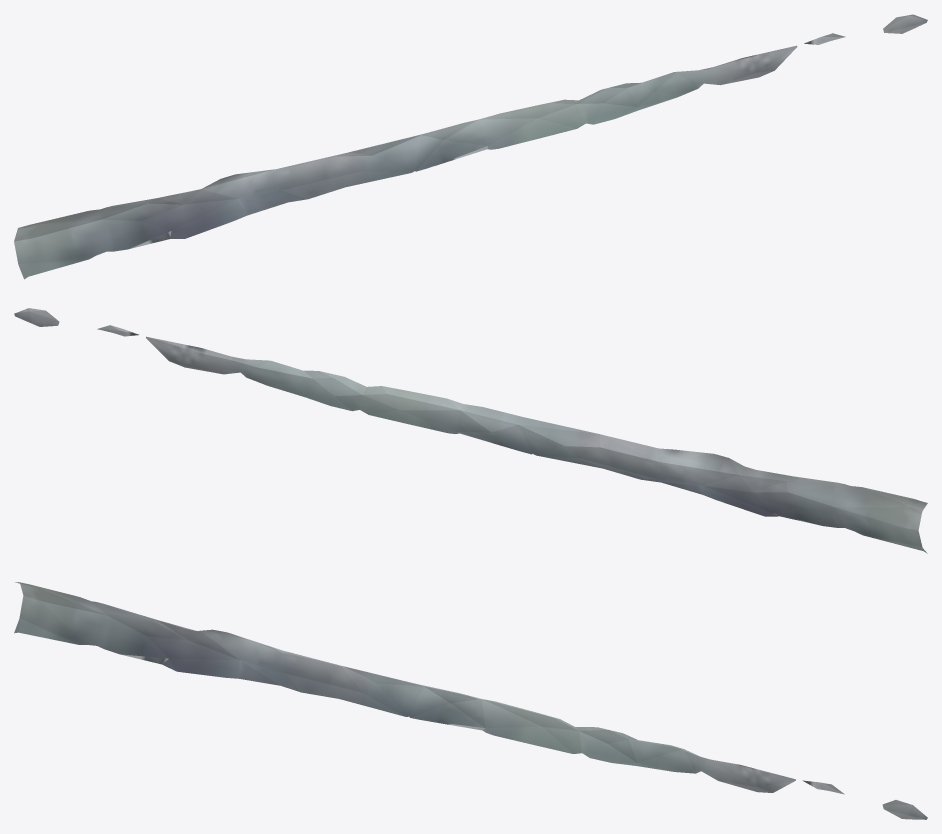
The model's file is Tile_+011_+009_L20_000001370.glb.
3 views of the same model, one above another, from view 1: azimuth 30°, elevation 25°; view 2: azimuth 150°, elevation 25°; view 3: azimuth 330°, elevation 25° (orthographic).
Parts seen in each view (by area): view 1: rtc; view 2: rtc; view 3: rtc.
Boxes of the visible parts, x1=… form: rtc: x1=14, y1=14, x2=927, y2=279; rtc: x1=14, y1=308, x2=927, y2=553; rtc: x1=14, y1=582, x2=927, y2=819.
Size of the model in its own units: 13.5 by 0.7484 by 0.3292.
1 material, 1 textured.
